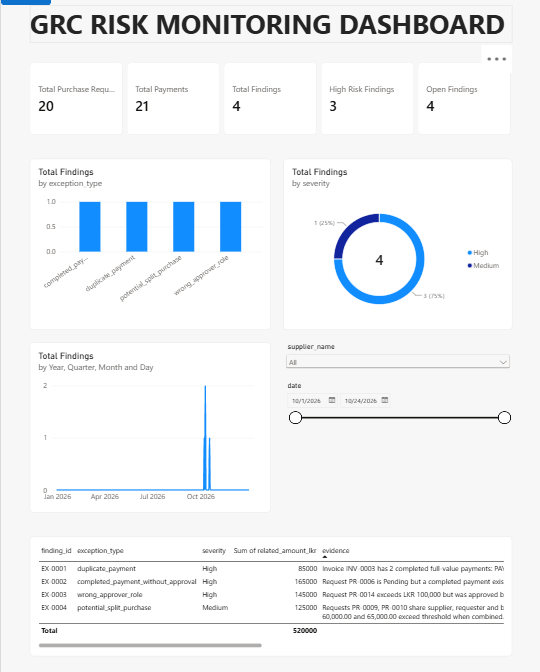

The page's visual inventory and layout, read from the dashboard file:
{"tool":"powerbi","page":{"name":"Page 1","canvas":[1080,1920],"ordinal":0},"visuals":[{"type":"cardVisual","fields":{"Data":["DimDates.Total Purchase Requests","DimDates.Total Payments","DimDates.Total Findings","DimDates.High Risk Findings","DimDates.Open Findings"]},"box":[57.5,155,965,145],"z":0},{"type":"clusteredColumnChart","fields":{"Category":["FactExceptions.exception_type"],"Y":["DimDates.Total Findings"]},"box":[57.5,347.5,482.5,342.5],"z":1000},{"type":"donutChart","fields":{"Category":["FactExceptions.severity"],"Y":["DimDates.Total Findings"]},"box":[565,347.5,457.5,342.5],"z":2000},{"type":"lineChart","fields":{"Category":["DimDates.date.Variation.Date Hierarchy.Year","DimDates.date.Variation.Date Hierarchy.Quarter","DimDates.date.Variation.Date Hierarchy.Month","DimDates.date.Variation.Date Hierarchy.Day"],"Y":["DimDates.Total Findings"]},"box":[57.5,715,482.5,340],"z":3000},{"type":"tableEx","fields":{"Values":["FactExceptions.finding_id","FactExceptions.exception_type","FactExceptions.severity","Sum(FactExceptions.related_amount_lkr)","FactExceptions.evidence","FactExceptions.recommended_action","FactExceptions.event_date"]},"box":[57.5,1102.5,965,240],"z":4000},{"type":"actionButton","box":[0,0,100,40],"z":5000},{"type":"slicer","fields":{"Values":["DimSuppliers.supplier_name"]},"box":[565,715,457.5,72.5],"z":6000},{"type":"textbox","box":[57.5,40,965,77.5],"z":7000},{"type":"slicer","fields":{"Values":["DimDates.date"]},"box":[565,792.5,457.5,262.5],"z":8000}]}

Visuals, with their boxes on the page's 1080x1920 design canvas (x1, y1, x2, y2). These are canvas units, not pixel positions in the 540x672 screenshot, which may show the page scaled, cropped or inside an application window:
cardVisual - DimDates.Total Purchase Requests x DimDates.Total Payments: pyautogui.locateOnScreen(58, 155, 1022, 300)
clusteredColumnChart - FactExceptions.exception_type x DimDates.Total Findings: pyautogui.locateOnScreen(58, 348, 540, 690)
donutChart - FactExceptions.severity x DimDates.Total Findings: pyautogui.locateOnScreen(565, 348, 1022, 690)
lineChart - DimDates.date.Variation.Date Hierarchy.Year x DimDates.date.Variation.Date Hierarchy.Quarter: pyautogui.locateOnScreen(58, 715, 540, 1055)
tableEx - FactExceptions.finding_id x FactExceptions.exception_type: pyautogui.locateOnScreen(58, 1102, 1022, 1342)
actionButton: pyautogui.locateOnScreen(0, 0, 100, 40)
slicer - DimSuppliers.supplier_name: pyautogui.locateOnScreen(565, 715, 1022, 788)
textbox: pyautogui.locateOnScreen(58, 40, 1022, 118)
slicer - DimDates.date: pyautogui.locateOnScreen(565, 792, 1022, 1055)
